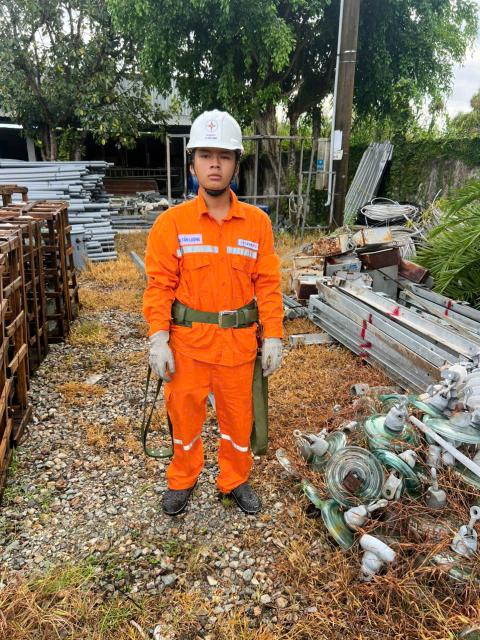gloves: (140, 320, 187, 380), (258, 335, 292, 376)
harness: (168, 293, 265, 336)
helmet: (182, 109, 254, 154)
shoes: (151, 469, 201, 523), (222, 466, 264, 518)
